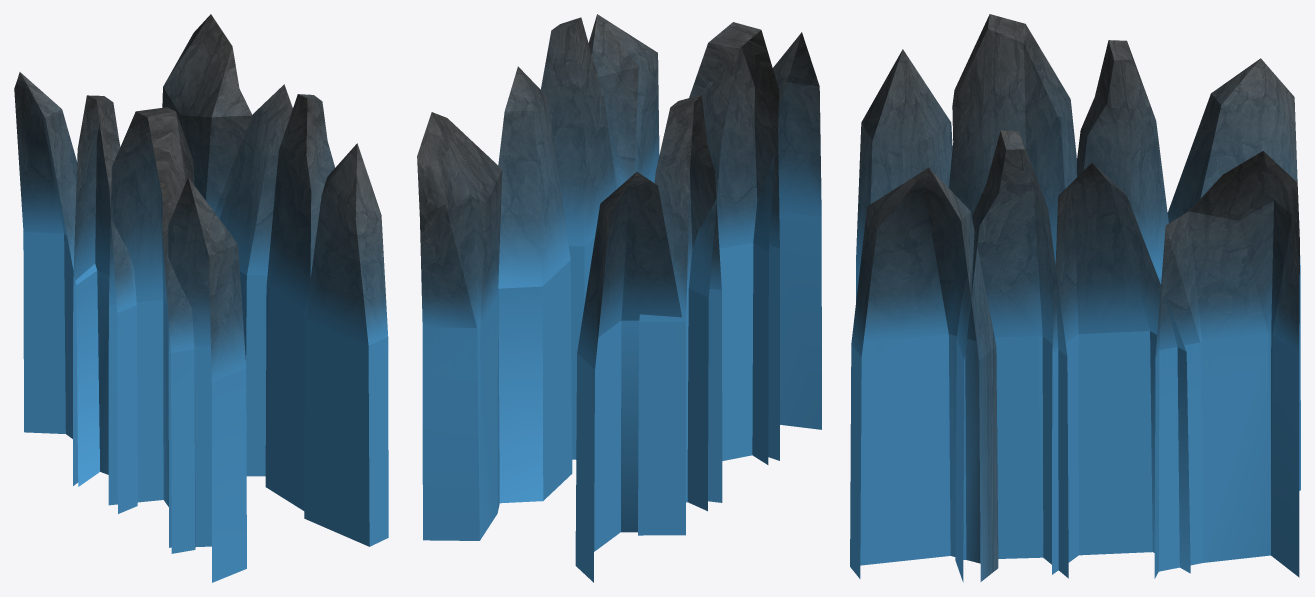
File: Mountain_01.FBX
3 renders of one model, left to right at view 1: azimuth 30°, elevation 25°; view 2: azimuth 150°, elevation 25°; view 3: azimuth 270°, elevation 25°, orthographic. The views are drawn at different scales.
Visible parts, largest first — view 1: Mountain_01; view 2: Mountain_01; view 3: Mountain_01.
Boxes of the visible parts, x1,y1,x2,y2 form: Mountain_01: [14, 14, 388, 582]; Mountain_01: [417, 14, 821, 582]; Mountain_01: [850, 14, 1300, 582].
Bounding box in the file's own units: 11850 × 24429 × 21382.
